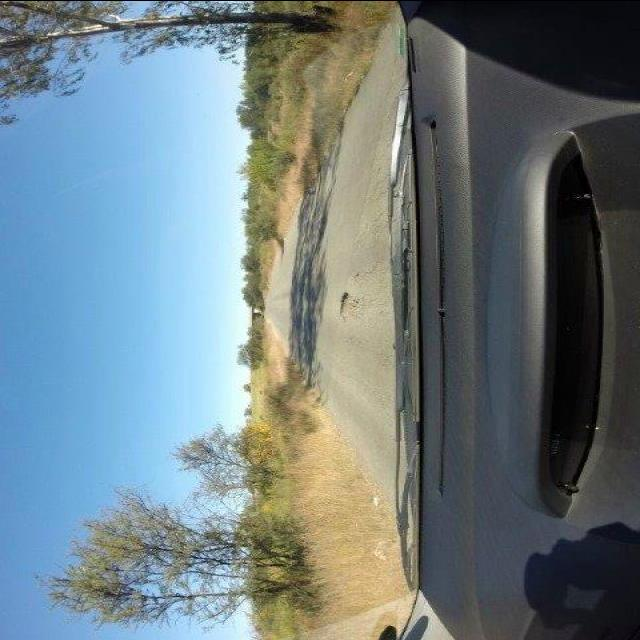lubang: (328, 290, 362, 322)
